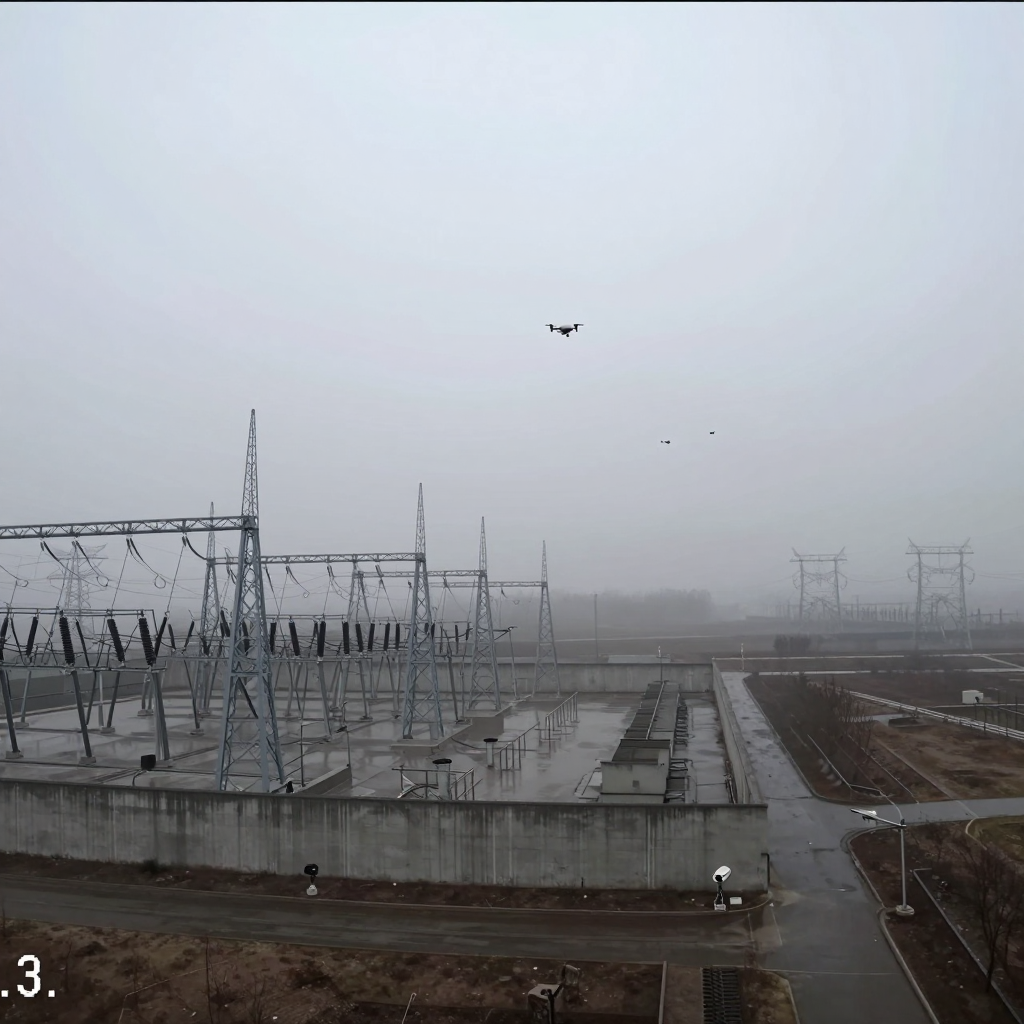drone: (545, 324, 584, 337), (659, 440, 674, 446)
